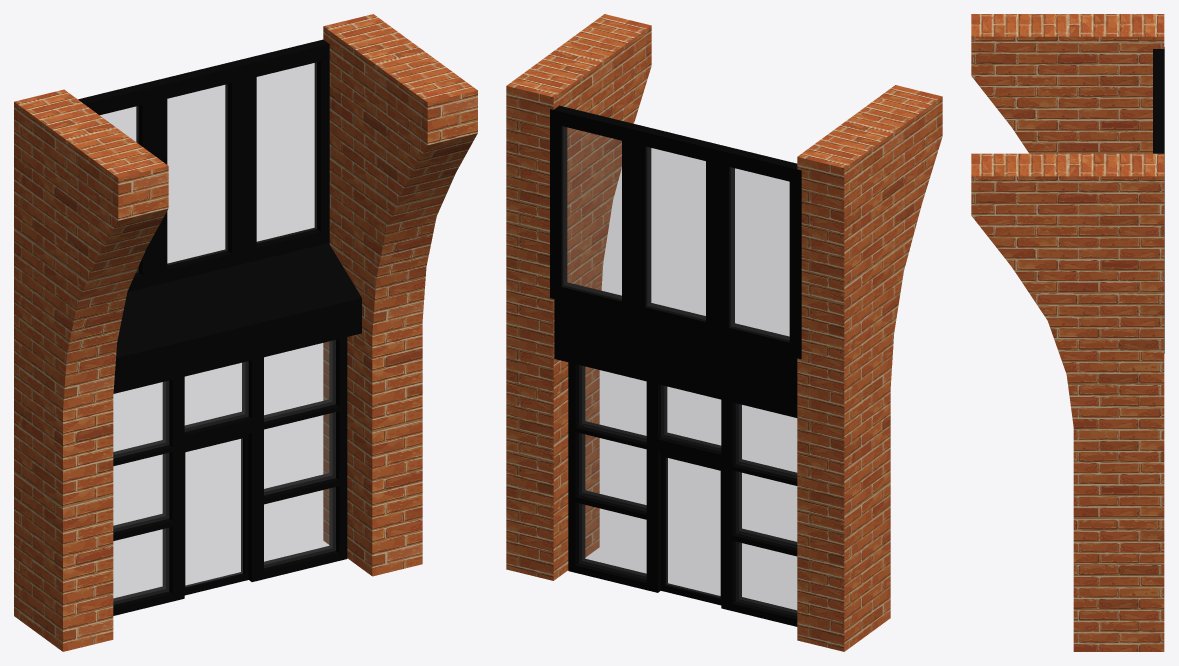
File: lobby_doorway.fbx
3 views of the same model, side by side, from view 1: azimuth 30°, elevation 25°; view 2: azimuth 150°, elevation 25°; view 3: azimuth 270°, elevation 25° (orthographic). The views are drawn at different scales.
Parts seen in each view (by area): view 1: column, column1, door_frame, windows, overhang, door; view 2: column, windows, column1, door_frame, overhang, door; view 3: column1, column, windows.
Part boxes in pixels (x1,y1,x2,y2): column: [14, 89, 168, 651]; column1: [323, 14, 477, 576]; door_frame: [113, 337, 347, 615]; windows: [78, 39, 329, 291]; overhang: [113, 243, 361, 393]; door: [184, 433, 248, 595]; column: [797, 85, 942, 651]; windows: [550, 105, 801, 359]; column1: [506, 14, 651, 580]; door_frame: [568, 362, 797, 626]; overhang: [554, 299, 797, 417]; door: [661, 453, 721, 605]; column1: [971, 153, 1164, 651]; column: [971, 14, 1164, 153]; windows: [1153, 47, 1164, 353].
Size of the model in its own units: 5.25 by 7.18 by 2.64.
Materials: 3 (1 with a texture image).
